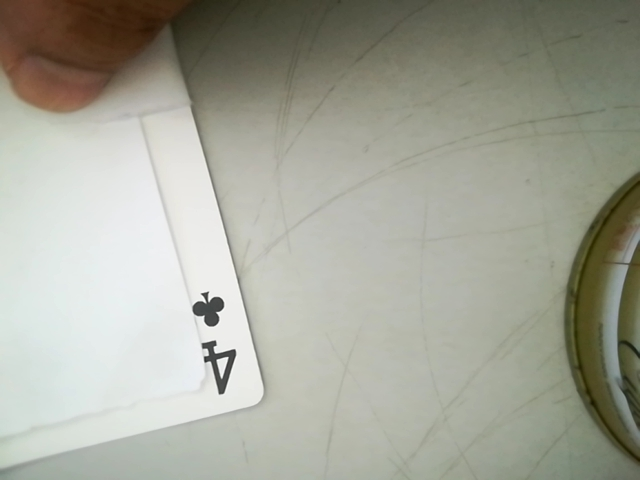mh 4: (180, 274, 252, 404)
